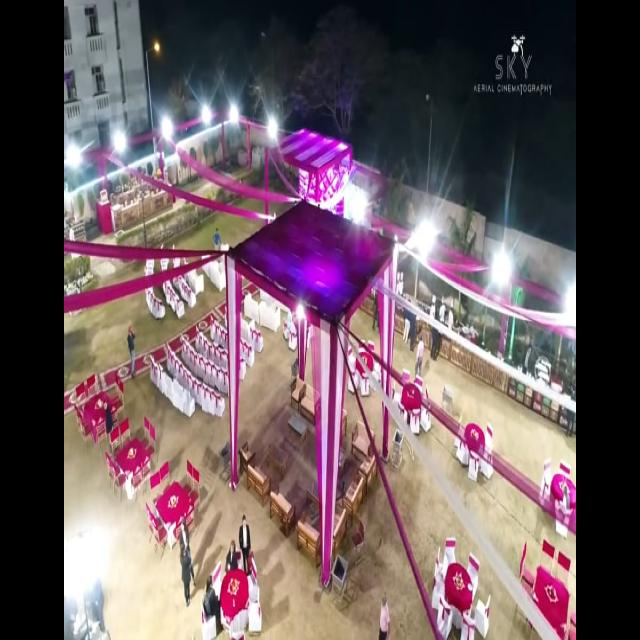humans: (239, 509, 256, 595), (201, 566, 220, 637), (373, 583, 393, 640), (180, 540, 195, 614), (124, 320, 140, 386), (221, 532, 240, 579), (412, 329, 426, 368), (209, 224, 224, 253)
